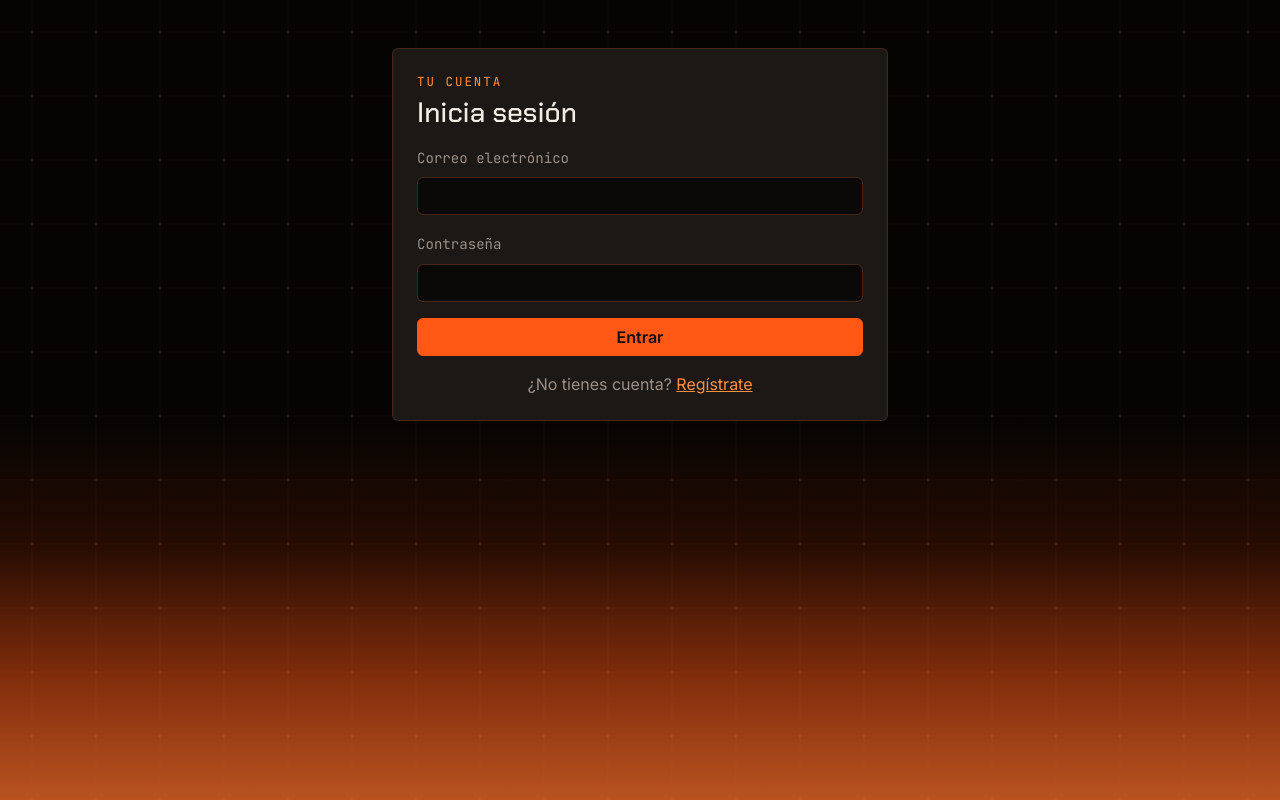
Test: <Login /> › valida el formato del correo antes de intentar entrar
Type "no-es-correo" into the field labelled "Correo electrónico" at (640, 196), box top-left (417, 177), bottom-right (863, 215)
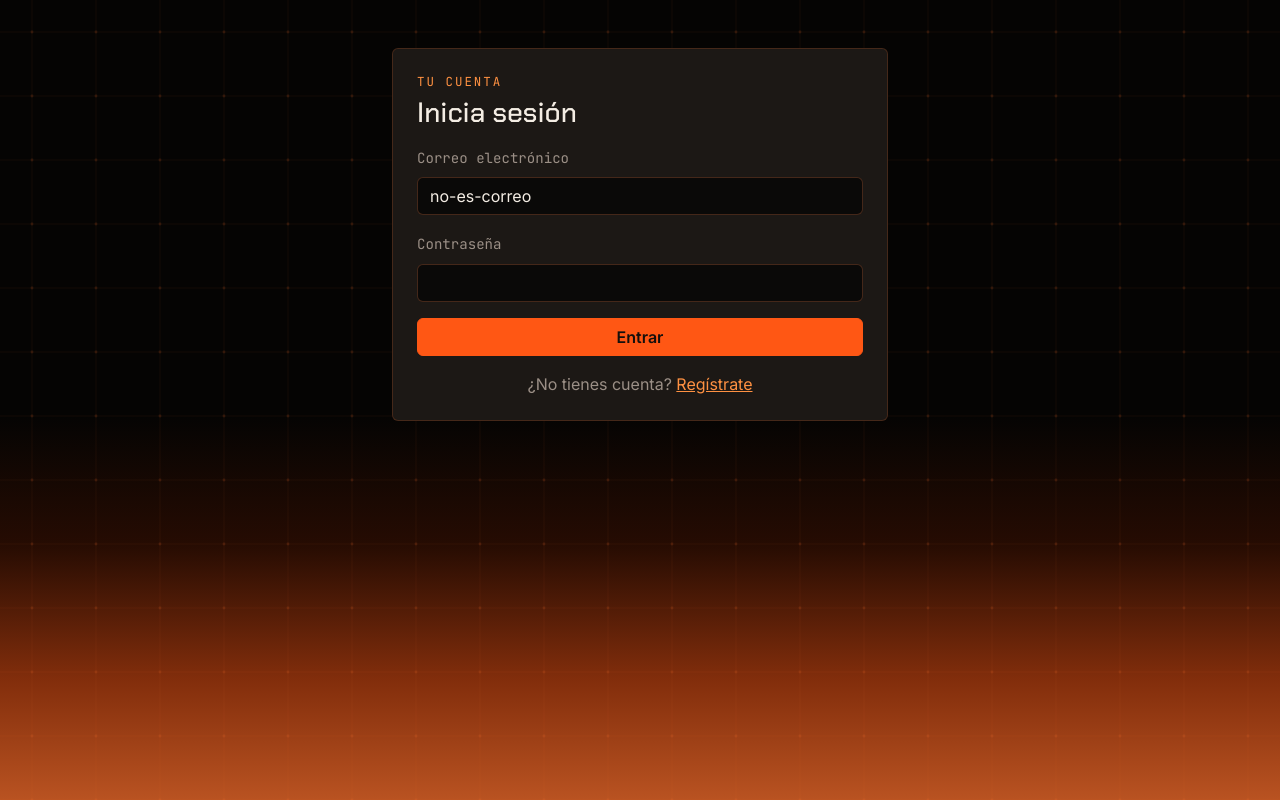
Type "algo" into the password field labelled "Contraseña" at (640, 282), box top-left (417, 264), bottom-right (863, 302)
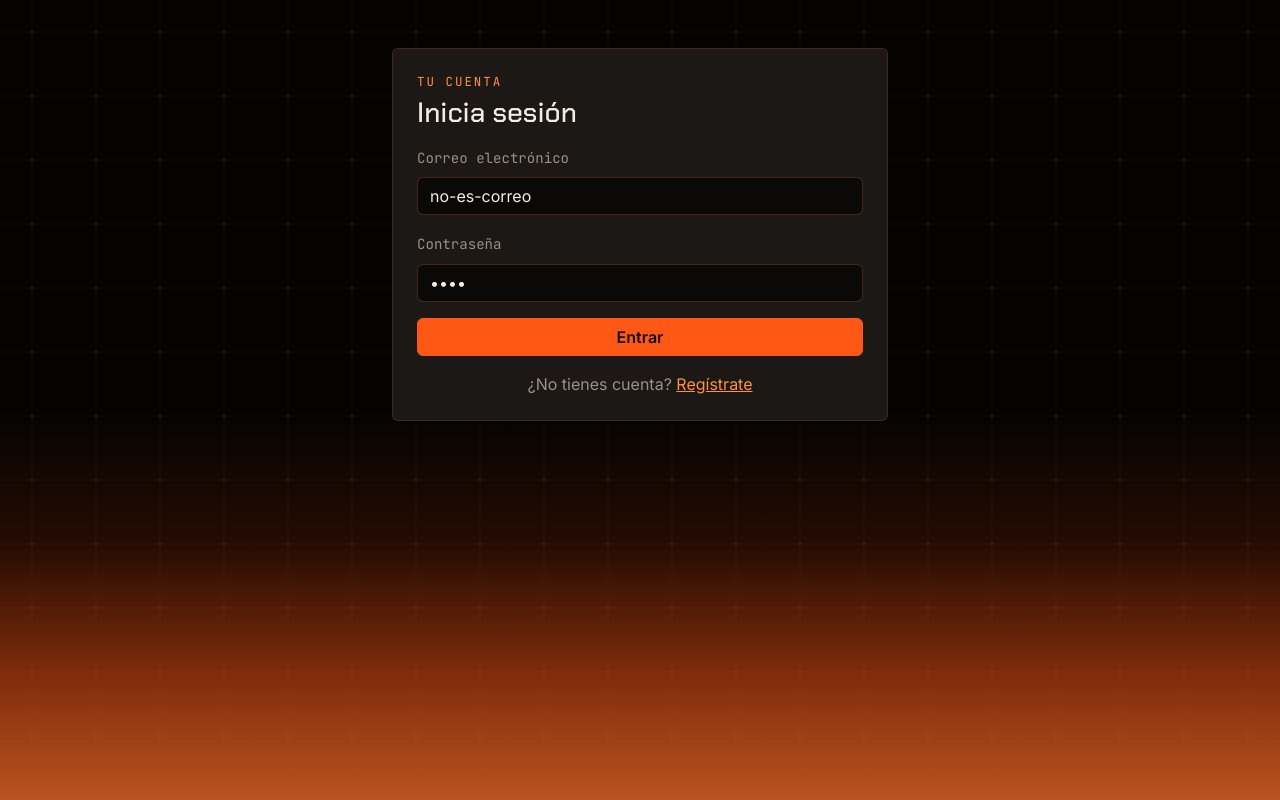
Click the button "Entrar" at (640, 336), box top-left (417, 318), bottom-right (863, 356)
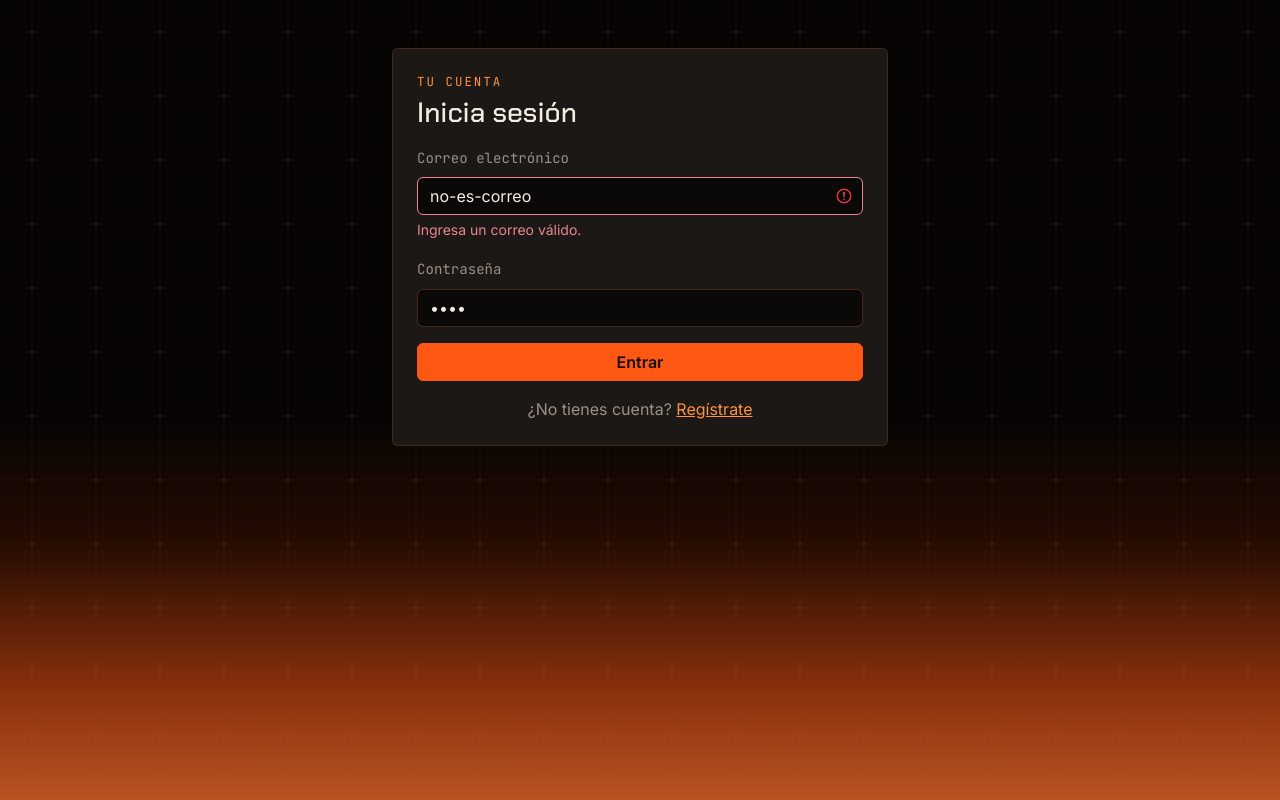
Check: the text "Ingresa un correo válido." is shown, box top-left (417, 221), bottom-right (581, 238)
